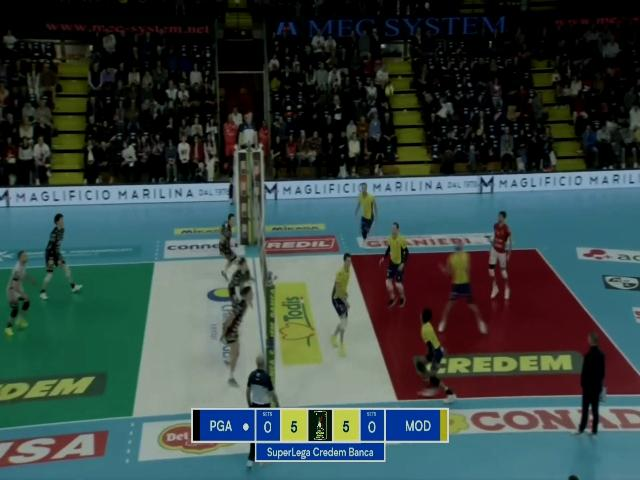volleyball court: (0, 251, 640, 428)
